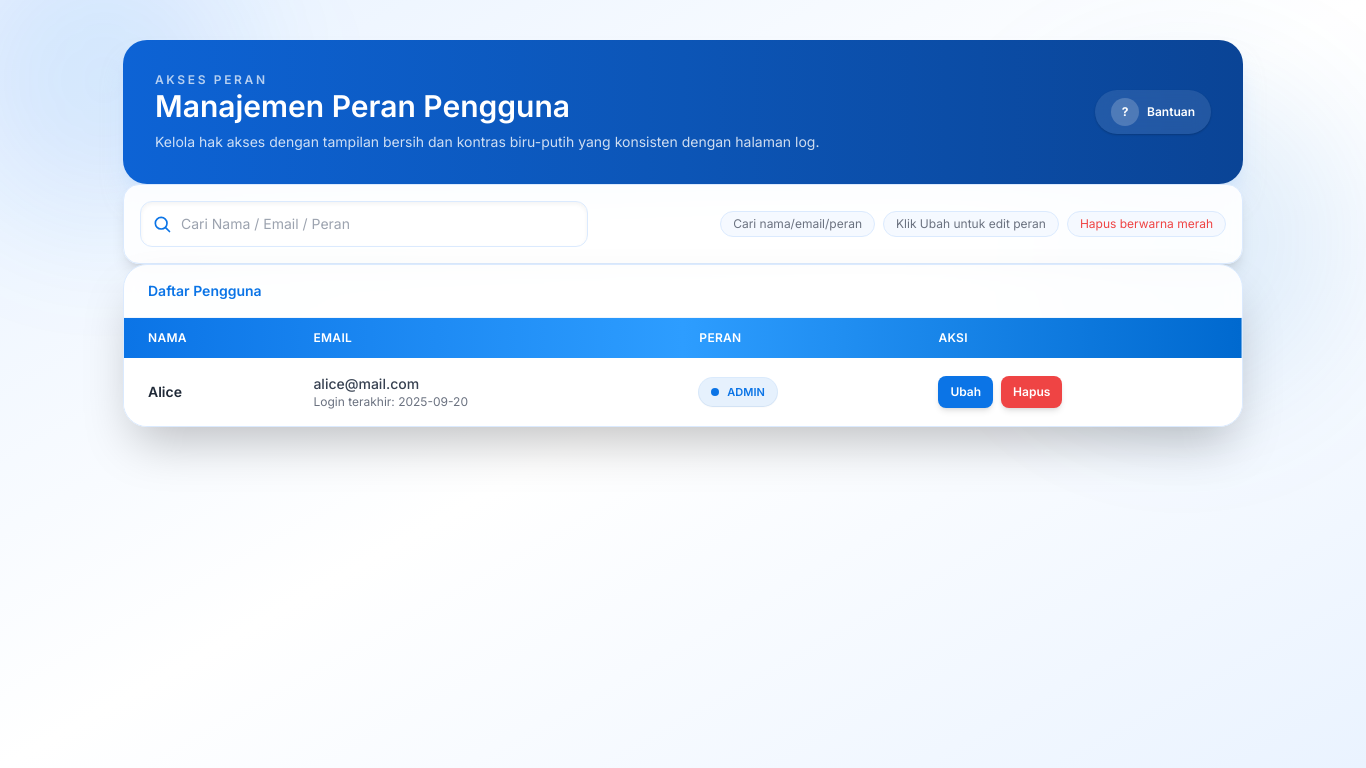
Test: help panel toggle opens and closes
Expected: the text "Alice" is shown, [148,383,182,400]
Click the button "? Bantuan": x=1153, y=112 [1095,90,1211,134]
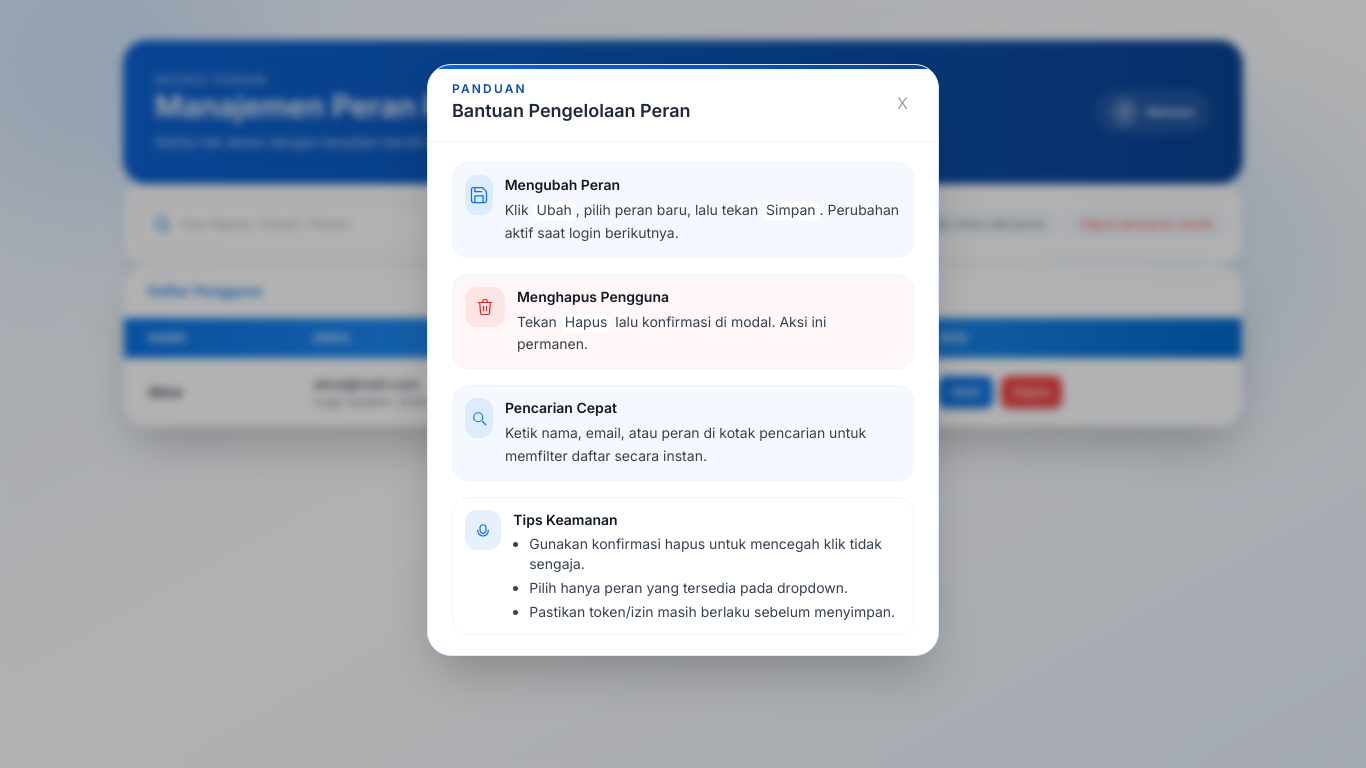
Now the heading "Bantuan Pengelolaan Peran" is shown, box [452,97,691,125]
Now the element with test id "help-icon-save" is shown, box [465,175,493,215]
Now the element with test id "help-icon-delete" is shown, box [465,286,505,326]
// close via close button
Click the button titled "Tutup": x=903, y=103 [891,85,914,121]
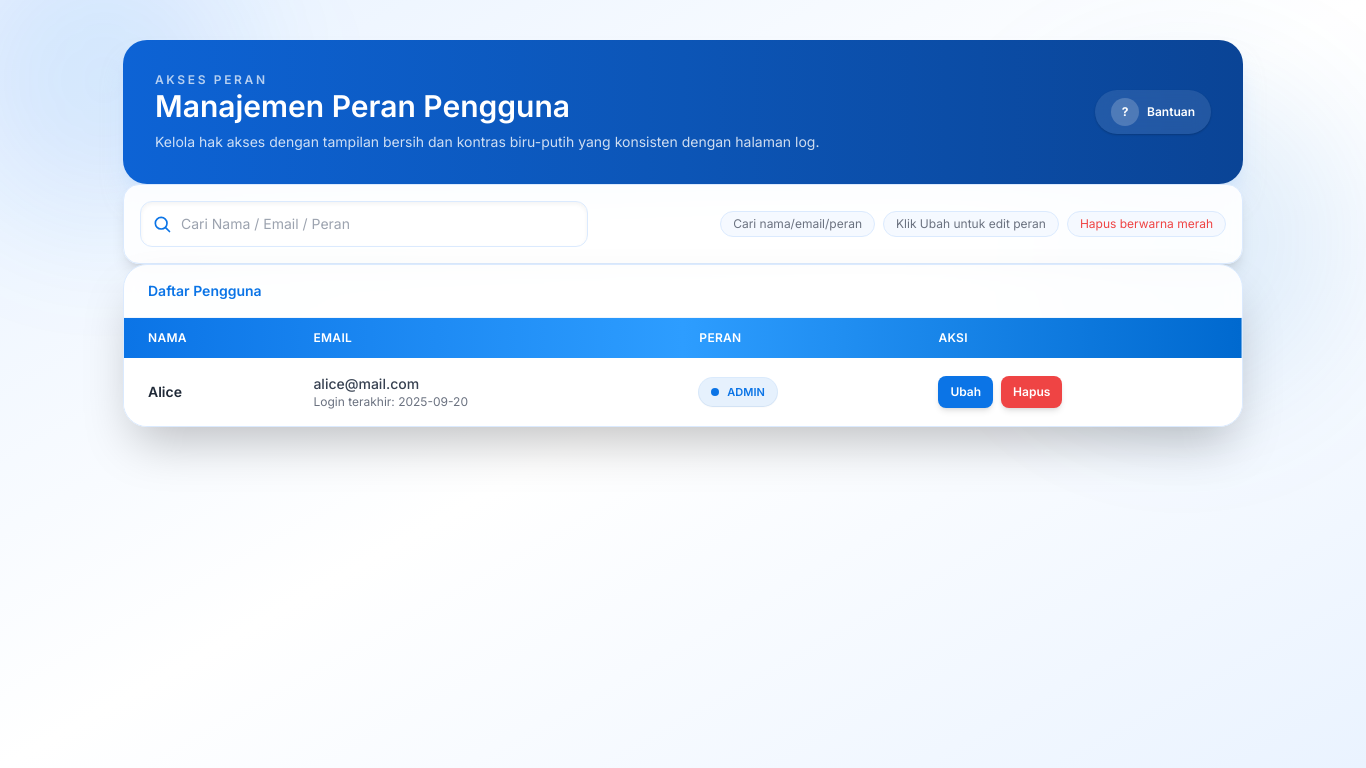
Now the heading "Bantuan Pengelolaan Peran" is gone
